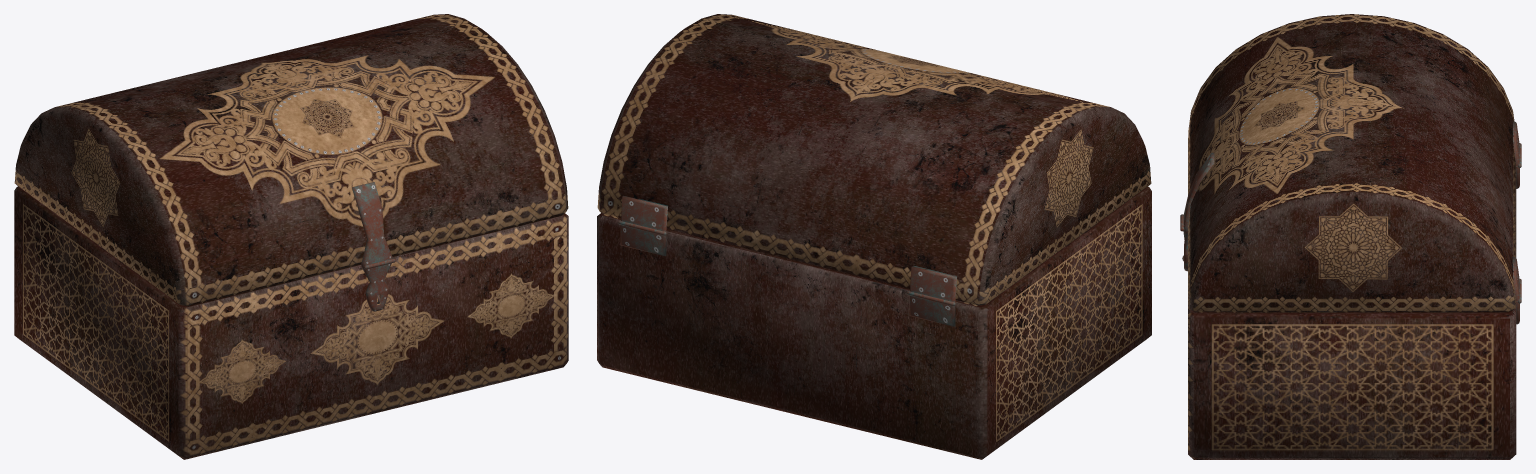
The model's file is chest_no coins.fbx.
The picture shows the model from 3 angles, left to right: view 1: azimuth 30°, elevation 25°; view 2: azimuth 150°, elevation 25°; view 3: azimuth 270°, elevation 25°; orthographic projection. The views are drawn at different scales.
Parts seen in each view (by area): view 1: chest_top, chest_bottom; view 2: chest_top, chest_bottom; view 3: chest_top, chest_bottom.
Part boxes in pixels (x1,y1,x2,y2): chest_top: (14, 14, 568, 311); chest_bottom: (14, 186, 568, 459); chest_top: (597, 14, 1151, 306); chest_bottom: (597, 186, 1151, 459); chest_top: (1180, 14, 1519, 313); chest_bottom: (1182, 138, 1521, 459).
Size of the model in its own units: 264 by 180 by 208.
Materials: 1 (1 with a texture image).
